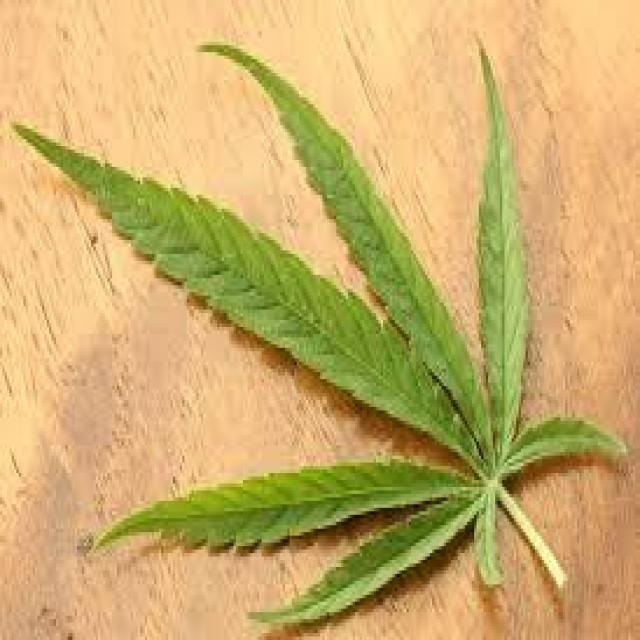cannabis: (12, 38, 628, 630)
